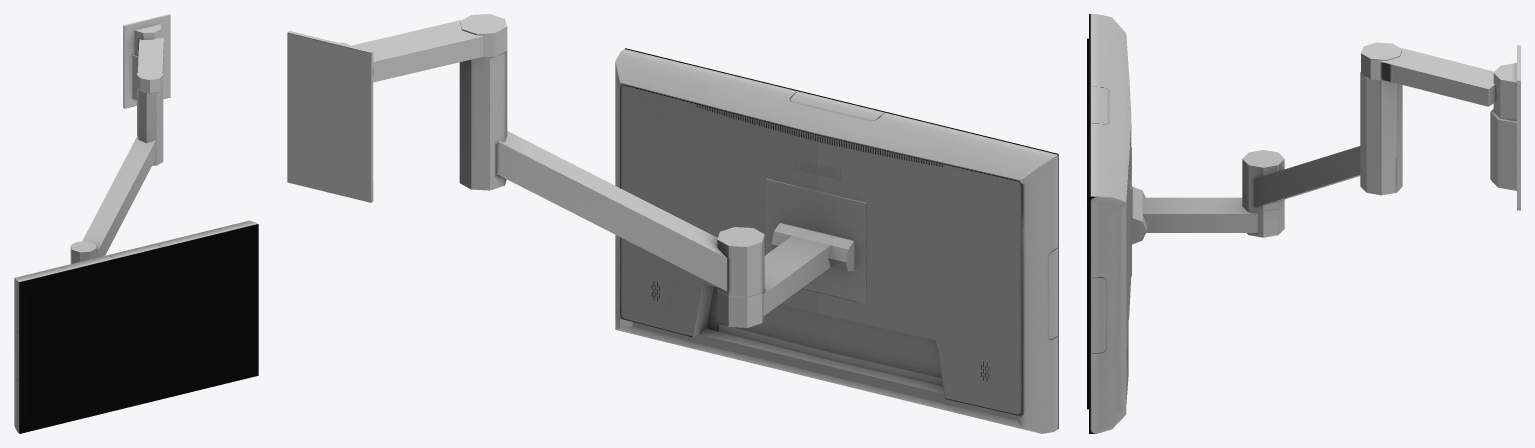
The model's file is UTC_320ar.fbx.
3 renders of one model, left to right at view 1: azimuth 30°, elevation 25°; view 2: azimuth 150°, elevation 25°; view 3: azimuth 270°, elevation 25°, orthographic. The views are drawn at different scales.
Visible parts, largest first — view 1: C, A, E, F, B; view 2: B, E, F, D, A; view 3: B, E, F, D, A, C.
Part boxes in pixels (x1,y1,x2,y2): C: (29, 238, 249, 420); A: (19, 224, 258, 433); E: (70, 88, 163, 263); F: (123, 14, 170, 108); B: (14, 220, 257, 432); B: (615, 49, 1057, 433); E: (459, 51, 764, 296); F: (287, 14, 507, 202); D: (717, 178, 866, 327); A: (625, 48, 1058, 428); B: (1090, 14, 1131, 433); E: (1242, 72, 1402, 210); F: (1361, 42, 1520, 210); D: (1130, 147, 1284, 276); A: (1089, 14, 1090, 433); C: (1087, 38, 1088, 409).
Size of the model in its own units: 62.61 by 51.85 by 52.21.
Materials: 1 (1 with a texture image).
